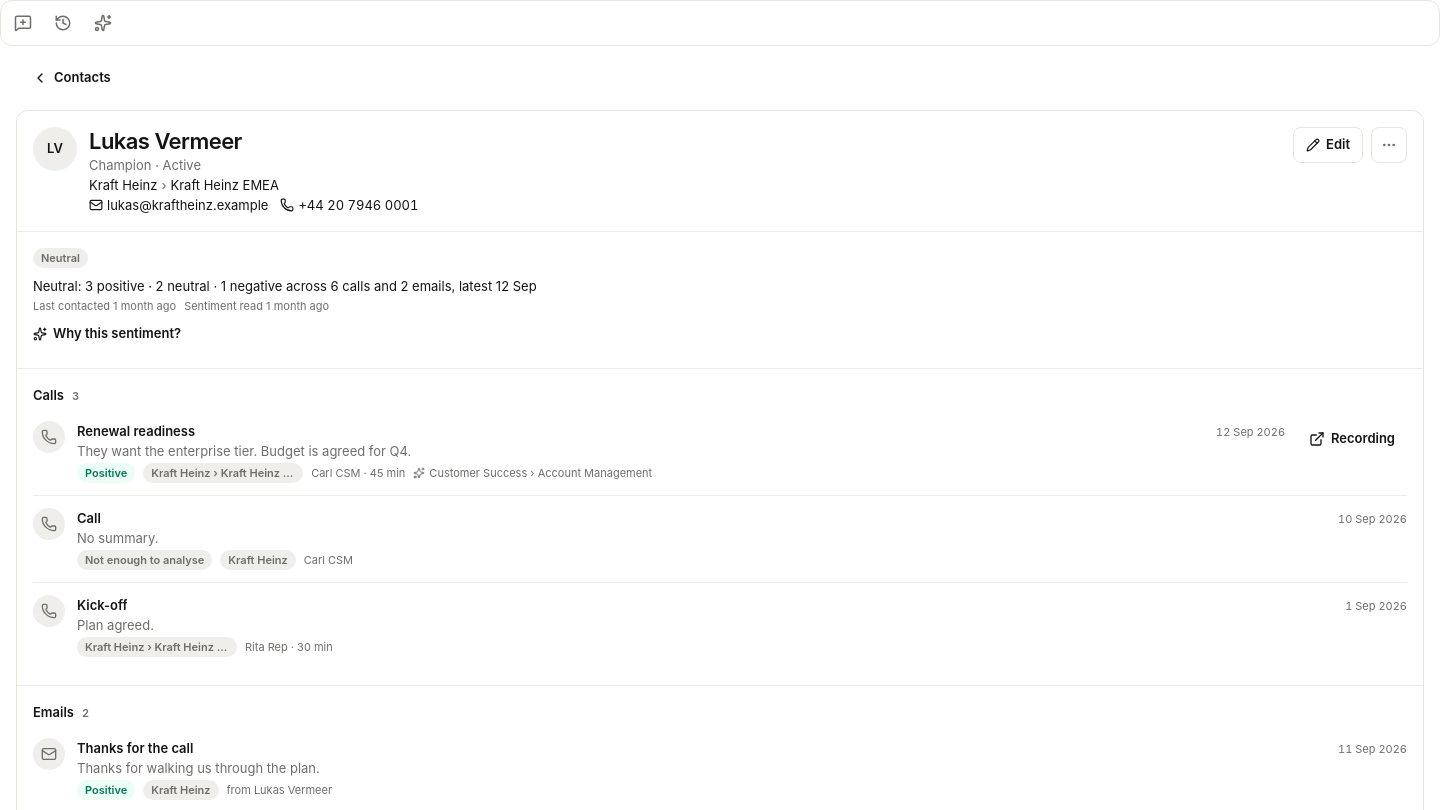
it: Ask Revenact on Contacts › opens the sheet with the question on phones
The image size is (1440, 810).
Expected: the heading "Lukas Vermeer" is shown, [89,128,242,154]
Click the button "Why this sentiment?" at (107, 334), box [21,316,193,352]
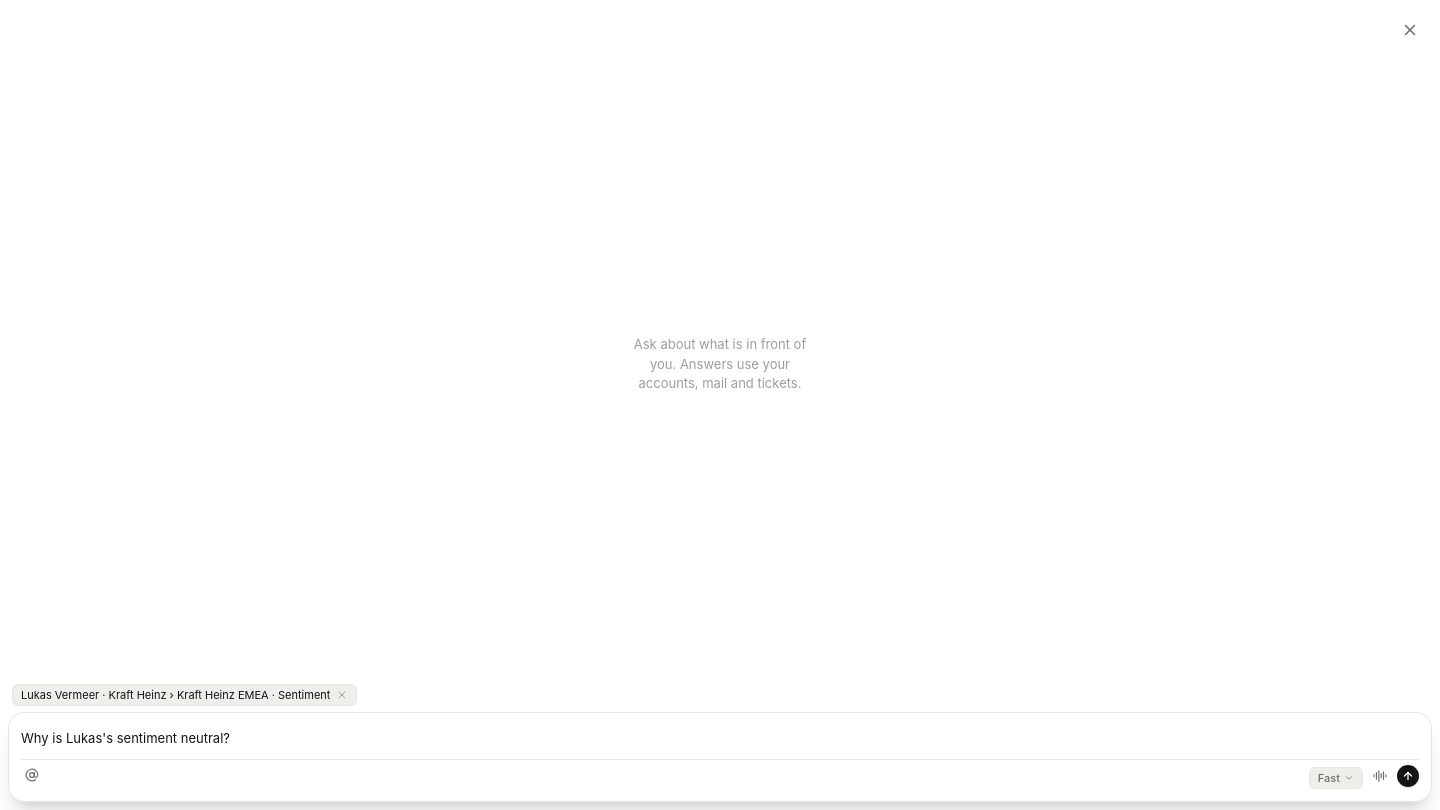
Result: the field with placeholder "Ask Revenact" holds "Why is Lukas's sentiment neutral?" at [21,727,1419,750]
